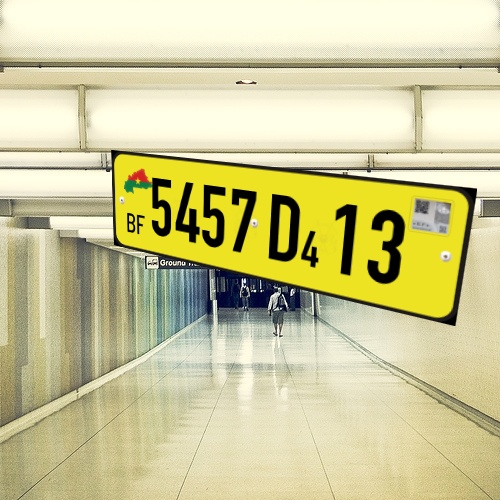plate: (100, 138, 479, 338)
